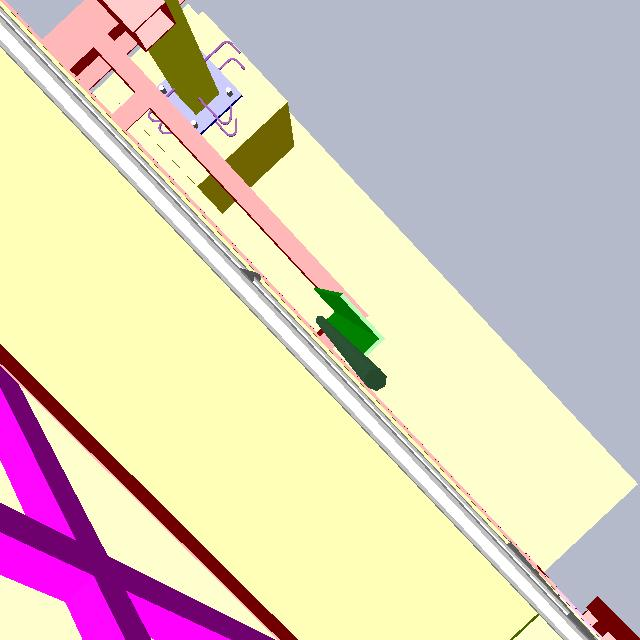Poste: (308, 313, 394, 396)
Soporte: (293, 273, 398, 375)
